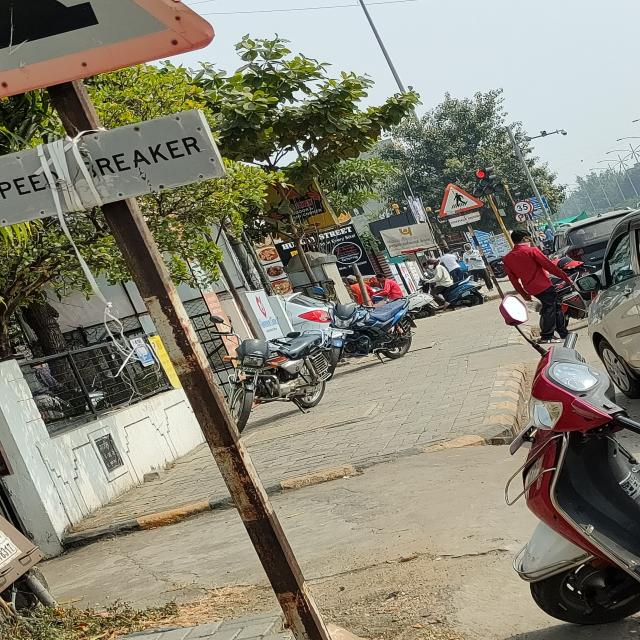HUMP_OR_ROUGH_ROAD: (0, 0, 210, 95)
